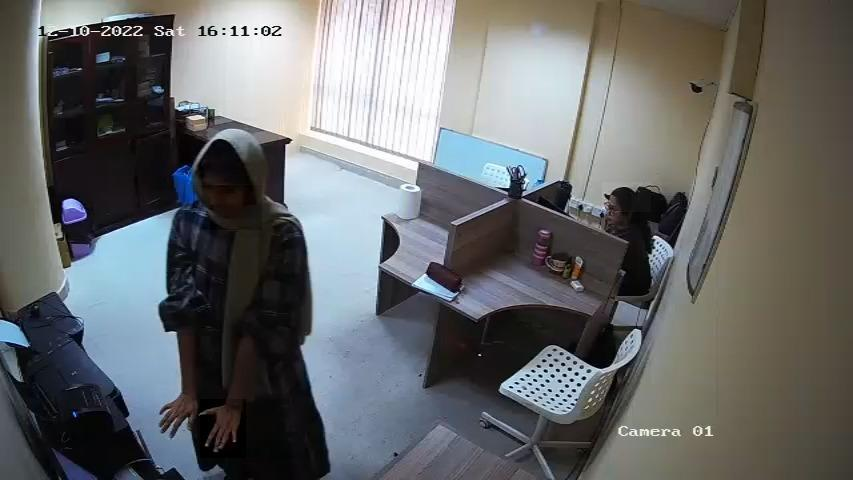no_apron: (200, 400, 246, 458), (155, 386, 197, 440)
no_gloves: (180, 131, 279, 184), (602, 182, 651, 212)
no_hairnet: (193, 186, 262, 230), (602, 204, 636, 229)
